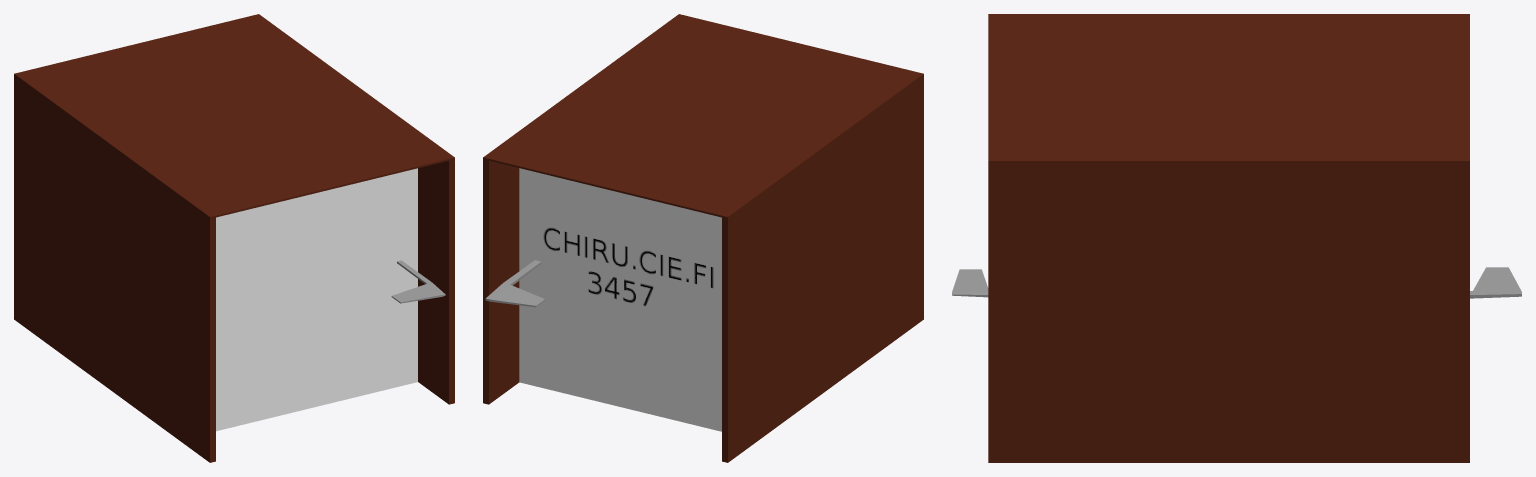
Rendered from portalCube.dae.
The picture shows the model from 3 angles, left to right: view 1: azimuth 30°, elevation 25°; view 2: azimuth 150°, elevation 25°; view 3: azimuth 270°, elevation 25°; orthographic projection. The views are drawn at different scales.
Parts seen in each view (by area): view 1: root (×3); view 2: root (×3); view 3: root (×2).
Part boxes in pixels (x1,y1,x2,y2): root (×3): [14, 14, 454, 462]; root (×3): [483, 14, 923, 462]; root (×2): [952, 14, 1521, 462].
Size of the model in its own units: 2.1 by 2.01 by 3.44.
Materials: 3 (1 with a texture image).
